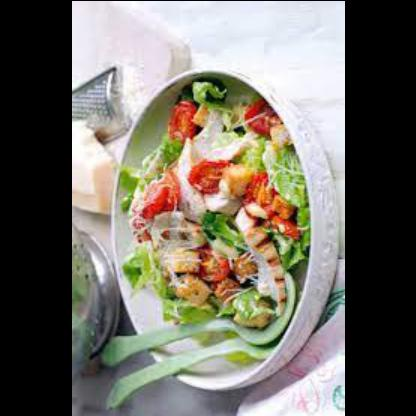salad: (115, 80, 308, 324)
